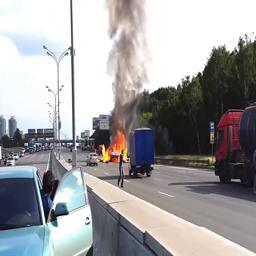fire: (102, 132, 129, 163)
